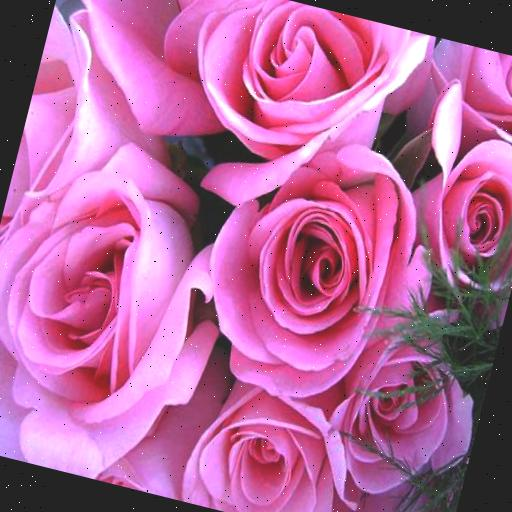rose: (0, 125, 223, 480), (184, 111, 426, 415), (328, 295, 499, 512), (178, 361, 359, 512)
